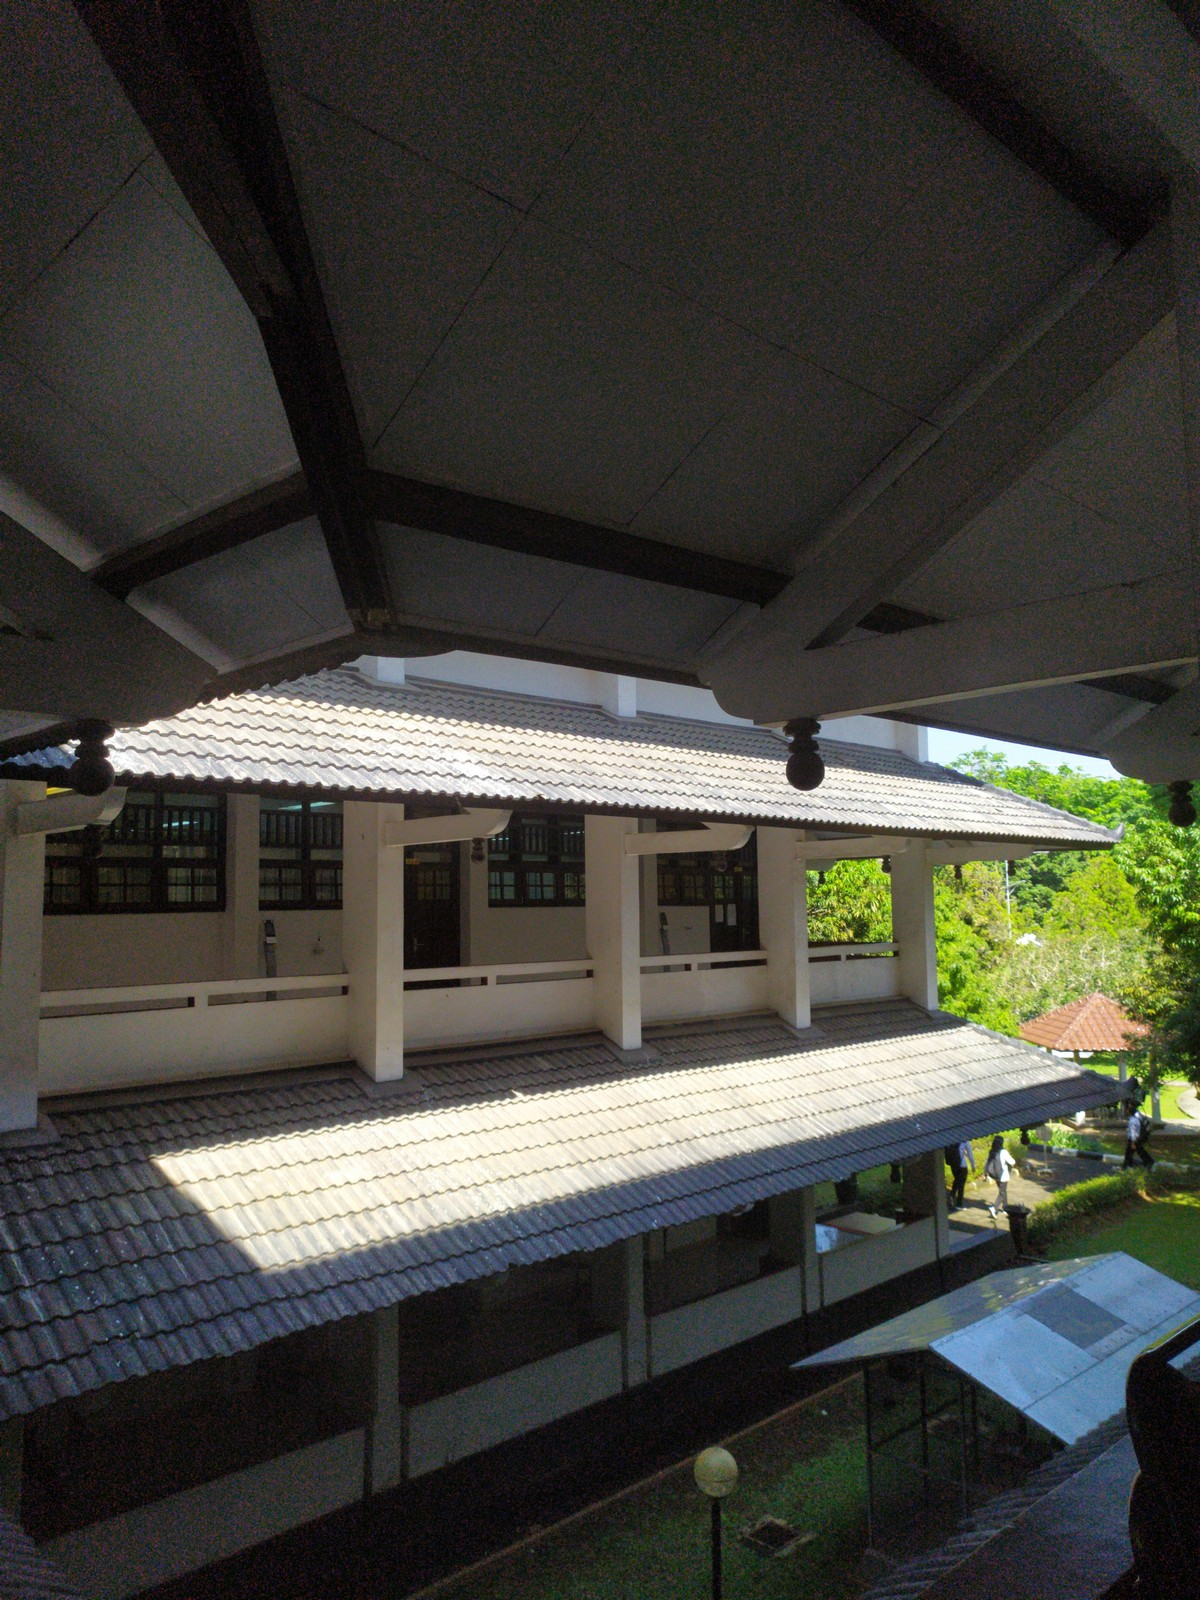concrete beam: (10, 792, 96, 842), (384, 810, 482, 853), (637, 826, 725, 860)
concrete column: (337, 810, 410, 1081), (577, 820, 649, 1051), (753, 834, 818, 1032), (887, 858, 944, 1008)
